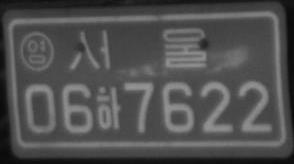0: (24, 82, 57, 135)
2: (237, 79, 273, 133), (200, 80, 233, 133)
6: (60, 82, 93, 135), (161, 80, 194, 133)
7: (123, 81, 155, 133)
서울_D: (67, 27, 207, 70)
영: (20, 31, 54, 72)
하: (96, 85, 121, 130)
